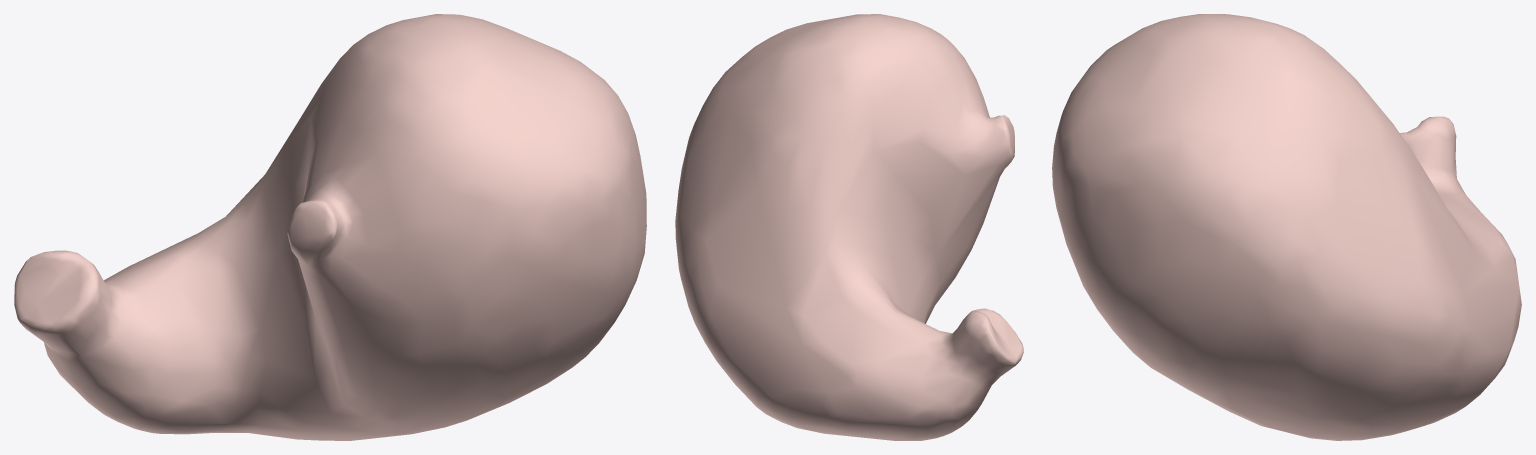
The model's file is stomach.glb.
The picture shows the model from 3 angles, left to right: view 1: azimuth 30°, elevation 25°; view 2: azimuth 150°, elevation 25°; view 3: azimuth 270°, elevation 25°; orthographic projection. The views are drawn at different scales.
Parts seen in each view (by area): view 1: stomach; view 2: stomach; view 3: stomach.
Boxes of the visible parts, x1=… form: stomach: x1=14, y1=14, x2=646, y2=440; stomach: x1=675, y1=14, x2=1023, y2=440; stomach: x1=1052, y1=14, x2=1521, y2=440.
Size of the model in its own units: 134 by 113 by 117.
